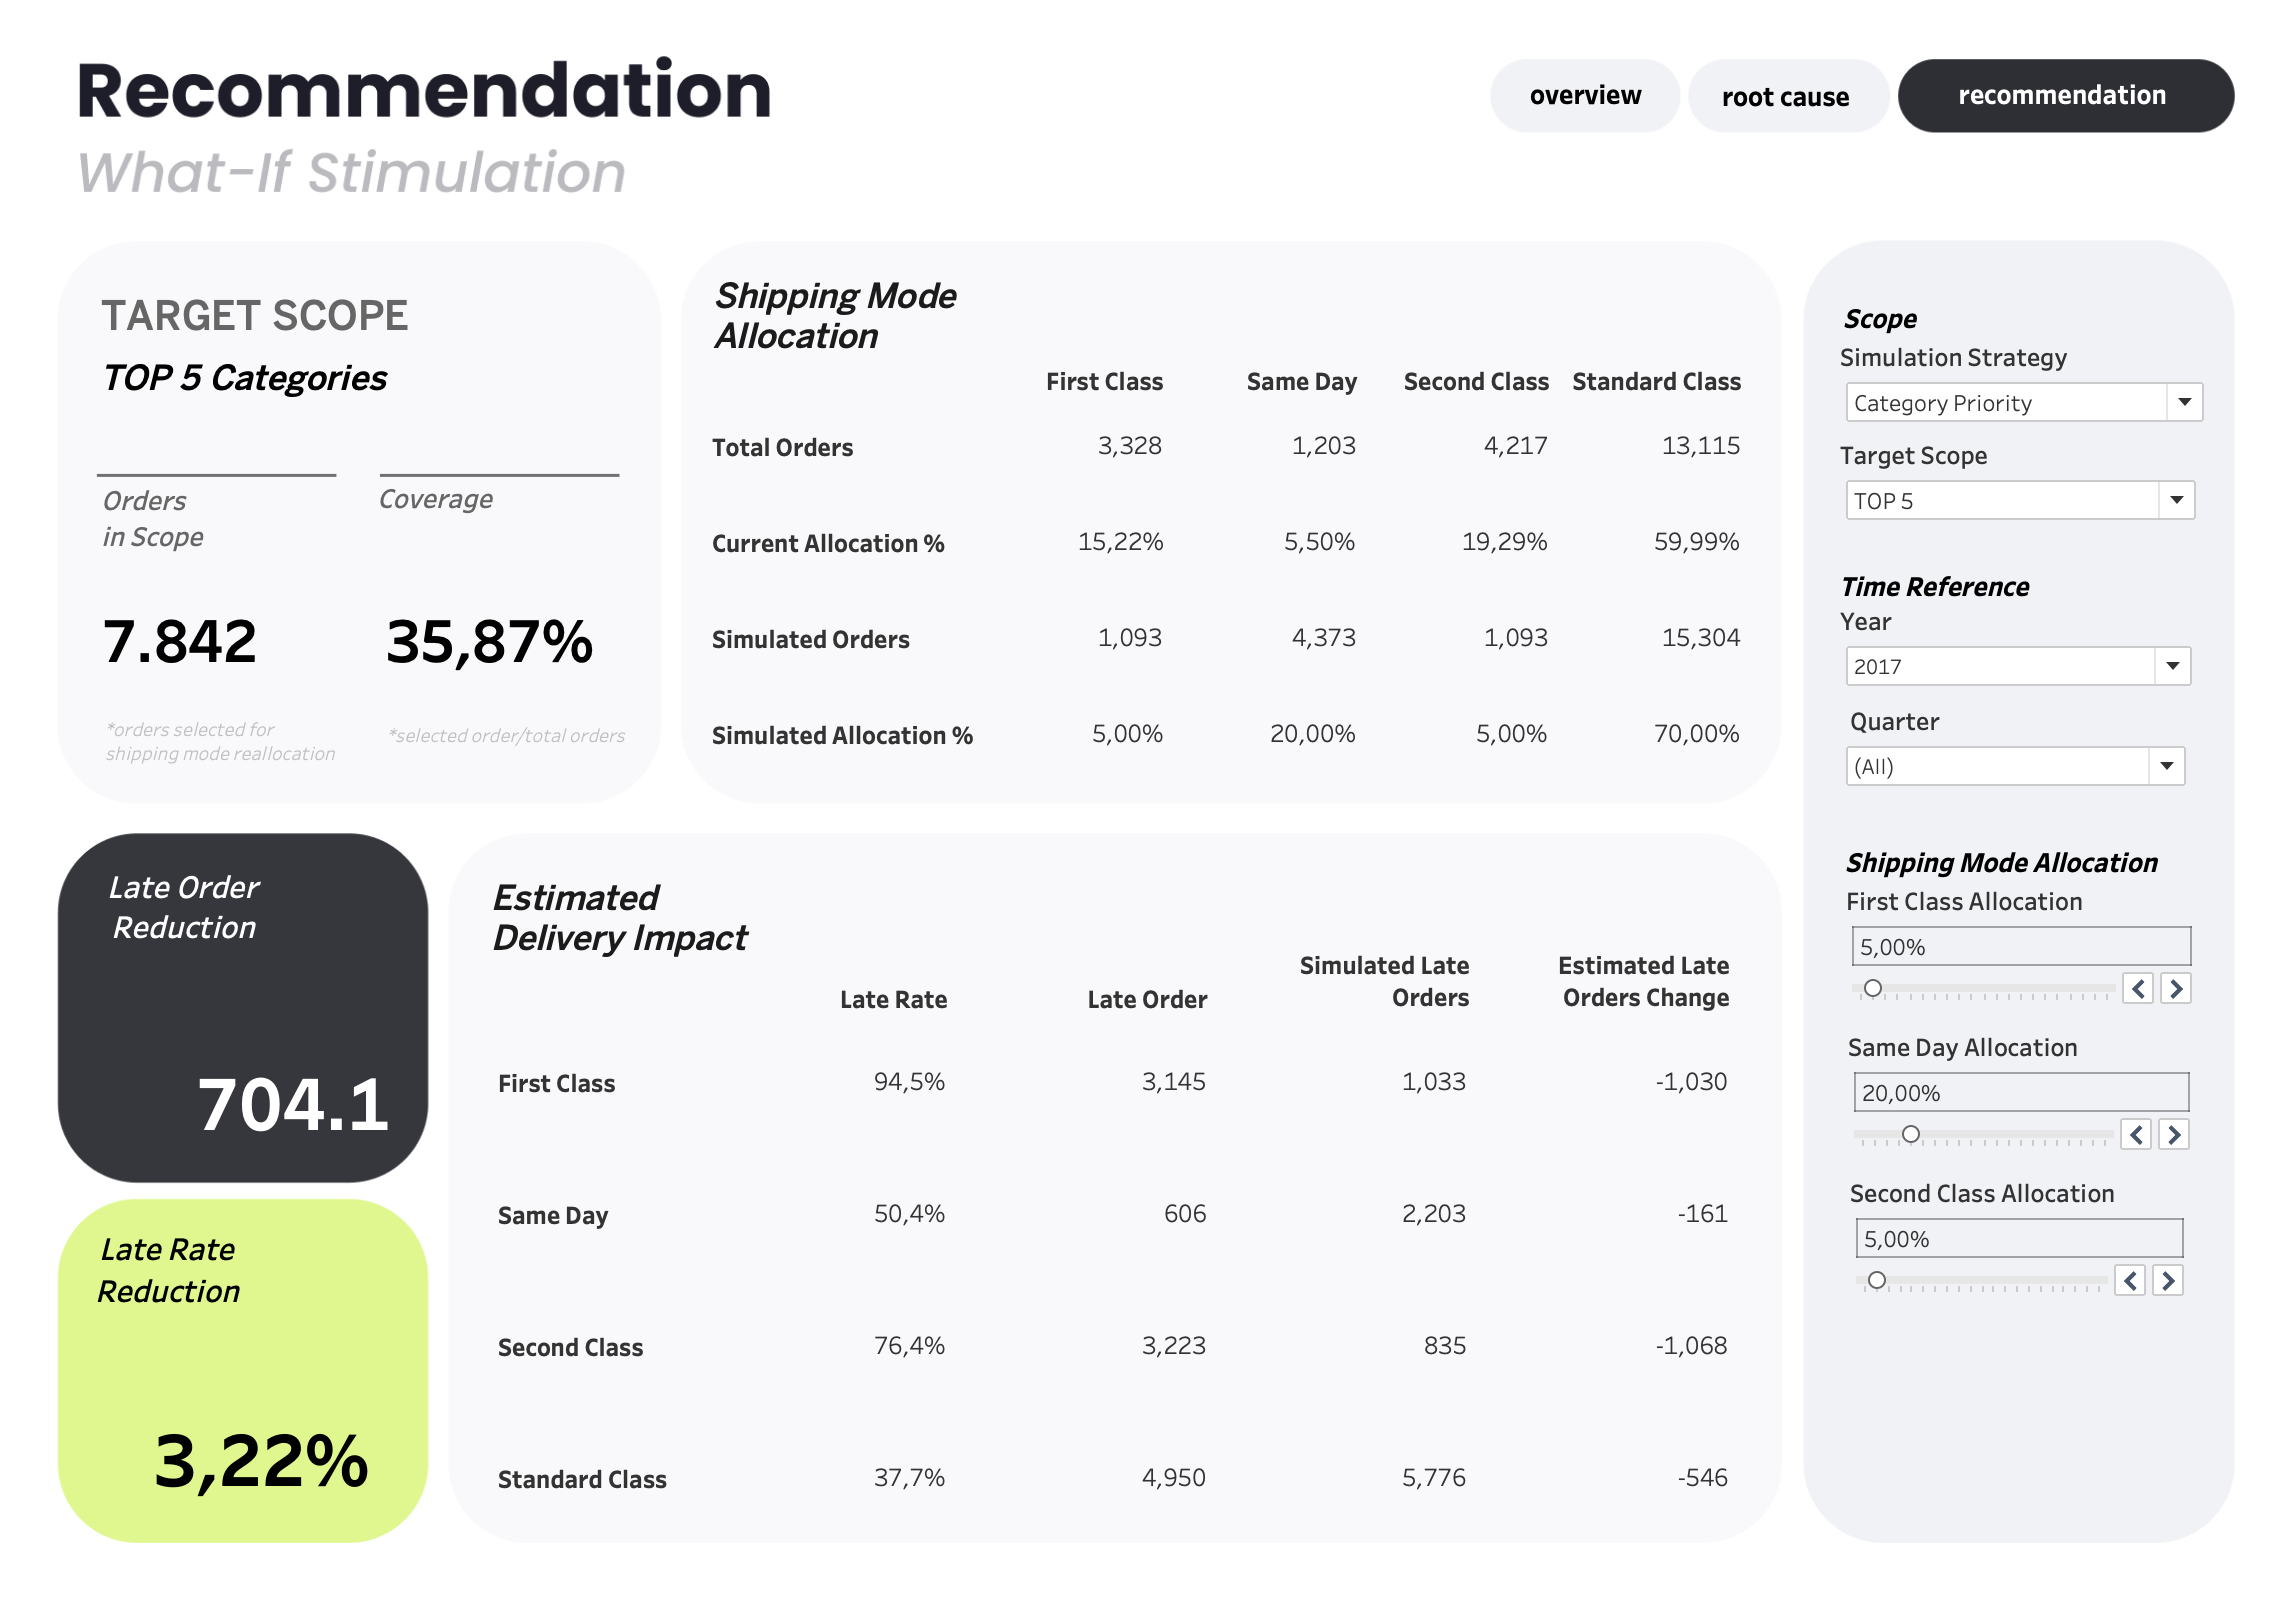

This screenshot's page, from the dashboard's own definition file:
{"tool":"tableau","page":{"name":"recommendation","canvas":[1169,827],"ordinal":1},"visuals":[{"type":"image","param":"Image/recom@2x.png","box":[0,0,1169,827]},{"type":"dashboard-object","box":[855,43,98,35]},{"type":"text","box":[985,44,115,30]},{"type":"dashboard-object","box":[758,45,92,29]},{"type":"text","box":[365,134,328,74]},{"type":"text","box":[59,155,189,30]},{"type":"text","box":[930,156,100,30]},{"type":"worksheet","title":"Stimulation","mark":"Automatic","cols":["shipping_mode"],"box":[361,171,525,232]},{"type":"parameter","param":"[Parameters].[Parameter 2763071783411738]","box":[931,182,185,44]},{"type":"worksheet","title":"Selected Scope","mark":"Automatic","box":[57,191,293,61]},{"type":"parameter","param":"[Parameters].[Parameter 2763071784939549]","box":[931,231,181,44]},{"type":"text","box":[197,237,93,48]},{"type":"text","box":[59,247,93,48]},{"type":"text","box":[928,290,102,30]},{"type":"worksheet","title":"Orders in Scope","mark":"Automatic","box":[45,312,138,54]},{"type":"worksheet","title":"Scope Coverage","mark":"Automatic","box":[193,312,137,61]},{"type":"filter","title":"Stimulation","param":"[federated.0n7d3741qxccu314g811g052moyb].[yr:order_date:ok]","box":[931,314,179,49]},{"type":"filter","title":"Stimulation","param":"[federated.0n7d3741qxccu314g811g052moyb].[qr:order_date:ok]","box":[931,364,176,54]},{"type":"text","box":[202,365,146,30]},{"type":"text","box":[61,368,146,30]},{"type":"text","box":[931,428,163,30]},{"type":"text","box":[254,442,458,60]},{"type":"parameter","param":"[Parameters].[Parameter 2763071772274692]","box":[934,454,176,67]},{"type":"worksheet","title":"Estimate Effect","mark":"Automatic","rows":["shipping_mode"],"box":[254,480,626,304]},{"type":"parameter","param":"[Parameters].[Parameter 2763071772377093]","box":[935,527,174,67]},{"type":"worksheet","title":"Total Late Order Reduction","mark":"Automatic","box":[91,538,143,75]},{"type":"parameter","param":"[Parameters].[Parameter 2763071772545033]","box":[936,600,170,67]},{"type":"text","box":[45,626,100,42]},{"type":"worksheet","title":"Late Rate Reduction","mark":"Automatic","box":[80,717,140,60]}]}

Visuals, with their boxes in screenshot pixels (x1, y1, x2, y2), scaled from the page's 1169x827 canvas onto the 2296x1600 screenshot:
image: crop(0, 0, 2295, 1599)
dashboard-object: crop(1679, 83, 1872, 151)
text: crop(1935, 85, 2160, 143)
dashboard-object: crop(1489, 87, 1669, 143)
text: crop(717, 259, 1361, 402)
text: crop(116, 300, 487, 358)
text: crop(1827, 302, 2023, 360)
"Stimulation" worksheet: crop(709, 331, 1740, 780)
parameter: crop(1829, 352, 2192, 437)
"Selected Scope" worksheet: crop(112, 370, 687, 488)
parameter: crop(1829, 447, 2184, 532)
text: crop(387, 459, 570, 551)
text: crop(116, 478, 299, 571)
text: crop(1823, 561, 2023, 619)
"Orders in Scope" worksheet: crop(88, 604, 359, 708)
"Scope Coverage" worksheet: crop(379, 604, 648, 722)
"Stimulation" filter: crop(1829, 607, 2180, 702)
"Stimulation" filter: crop(1829, 704, 2174, 809)
text: crop(397, 706, 683, 764)
text: crop(120, 712, 407, 770)
text: crop(1829, 828, 2149, 886)
text: crop(499, 855, 1398, 971)
parameter: crop(1834, 878, 2180, 1008)
"Estimate Effect" worksheet: crop(499, 929, 1728, 1517)
parameter: crop(1836, 1020, 2178, 1149)
"Total Late Order Reduction" worksheet: crop(179, 1041, 460, 1186)
parameter: crop(1838, 1161, 2172, 1290)
text: crop(88, 1211, 285, 1292)
"Late Rate Reduction" worksheet: crop(157, 1387, 432, 1503)
